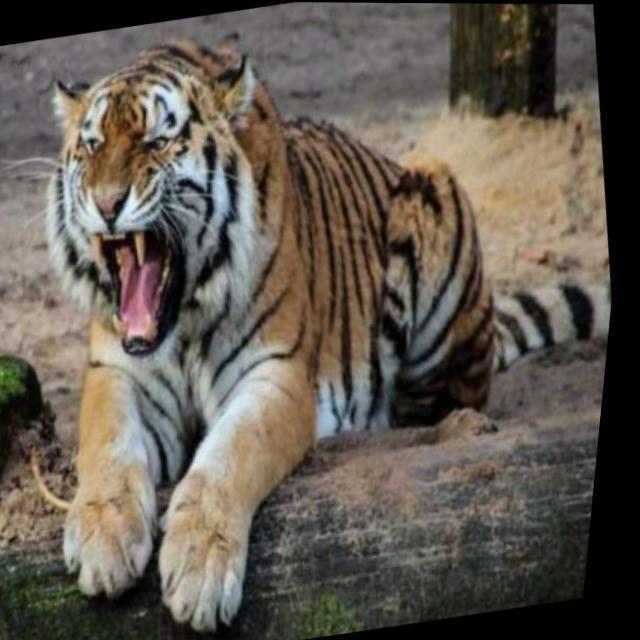tiger: (20, 36, 608, 634), (490, 279, 611, 373)
